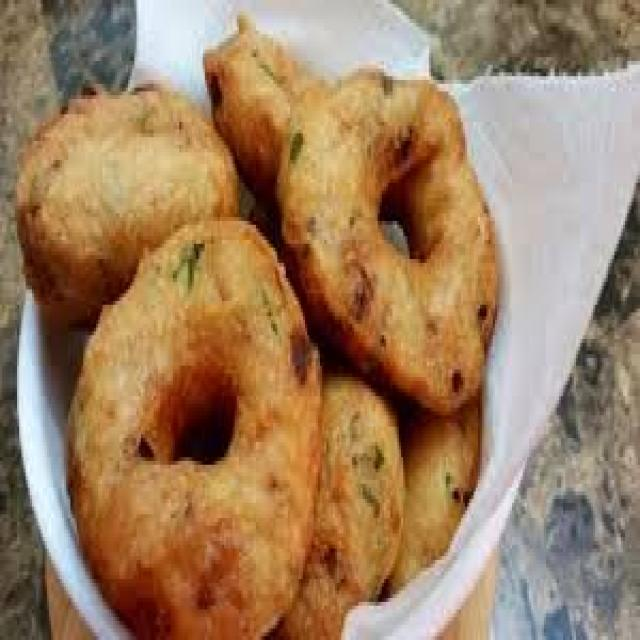MEDU VADA: (64, 215, 320, 635), (280, 72, 499, 409), (20, 86, 236, 319), (297, 379, 403, 628), (208, 28, 319, 209)
